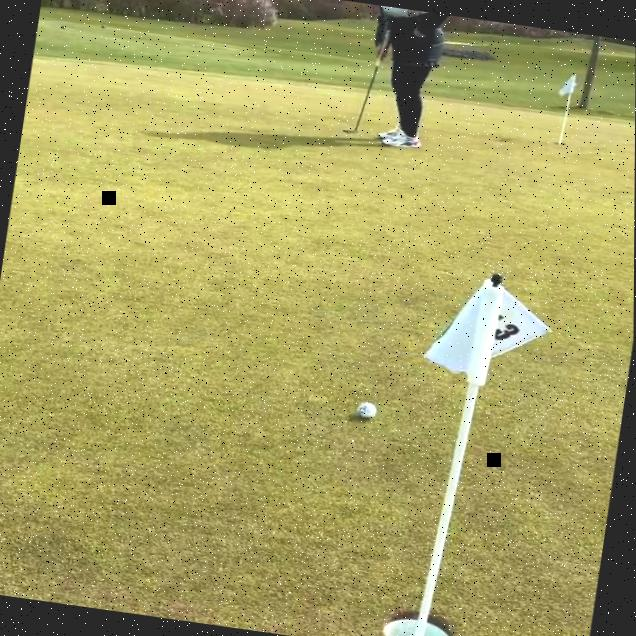ClubHead: (342, 128, 358, 136)
GolfBall: (357, 401, 379, 420)
